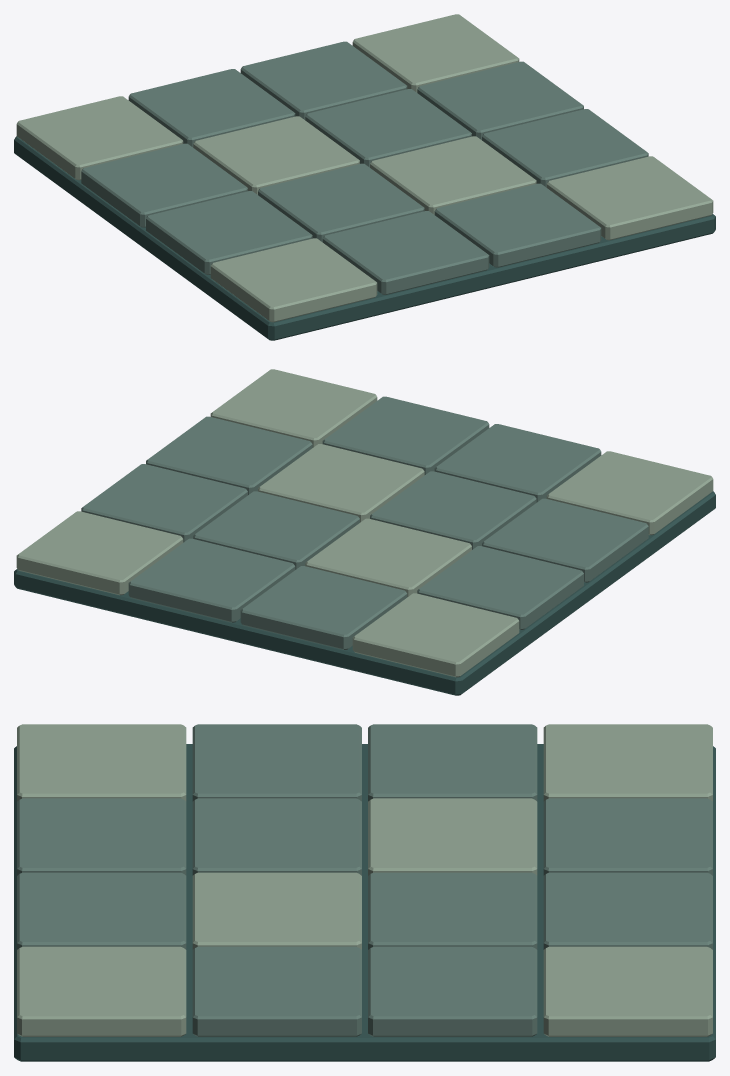
The model's file is floor-worn.glb.
3 renders of one model, top to bottom at view 1: azimuth 30°, elevation 25°; view 2: azimuth 150°, elevation 25°; view 3: azimuth 270°, elevation 25°, orthographic. The views are drawn at different scales.
Visible parts, largest first — view 1: floor-worn__body; view 2: floor-worn__body; view 3: floor-worn__body.
Boxes of the visible parts, x1,y1,x2,y2 form: floor-worn__body: (14, 14, 715, 340); floor-worn__body: (14, 369, 715, 695); floor-worn__body: (14, 724, 715, 1061).
Size of the model in its own units: 2 by 0.14 by 2.
